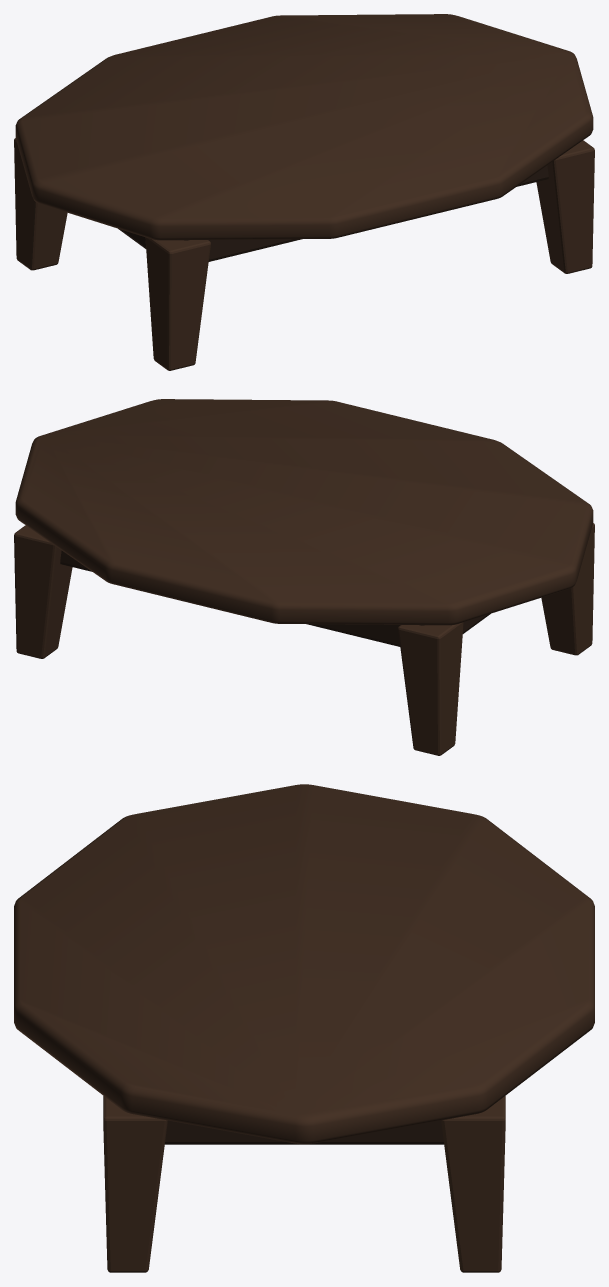
Rendered from table_coffee_walnut.fbx.
3 renders of one model, top to bottom at view 1: azimuth 30°, elevation 25°; view 2: azimuth 150°, elevation 25°; view 3: azimuth 270°, elevation 25°, orthographic. The views are drawn at different scales.
Visible parts, largest first — view 1: table_coffee_walnut; view 2: table_coffee_walnut; view 3: table_coffee_walnut.
Part boxes in pixels (x1=…): table_coffee_walnut: x1=14, y1=14, x2=594, y2=370; table_coffee_walnut: x1=14, y1=399, x2=594, y2=755; table_coffee_walnut: x1=14, y1=784, x2=594, y2=1272.
Size of the model in its own units: 1.45 by 0.38 by 1.05.
